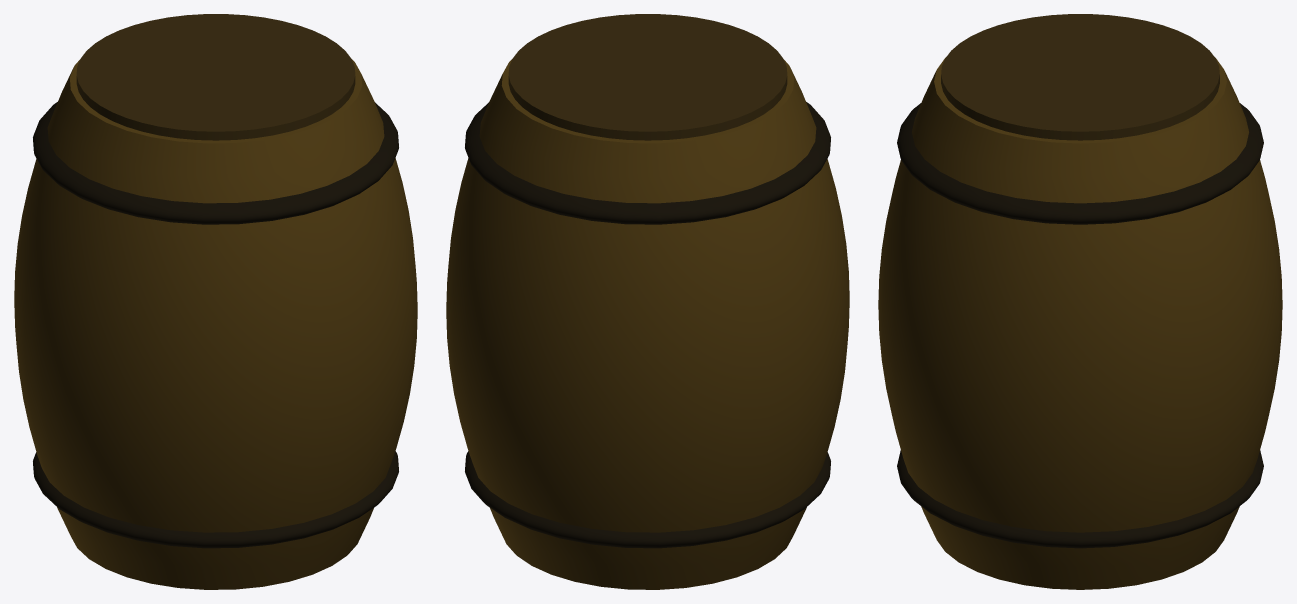
The model's file is Fass.fbx.
3 views of the same model, side by side, from view 1: azimuth 30°, elevation 25°; view 2: azimuth 150°, elevation 25°; view 3: azimuth 270°, elevation 25° (orthographic).
Parts seen in each view (by area): view 1: Cylinder; view 2: Cylinder; view 3: Cylinder.
Boxes of the visible parts, <box> form: Cylinder: <box>14,14,417,589</box>; Cylinder: <box>446,14,849,589</box>; Cylinder: <box>878,14,1282,589</box>.
Size of the model in its own units: 70.12 by 87.12 by 70.12.
